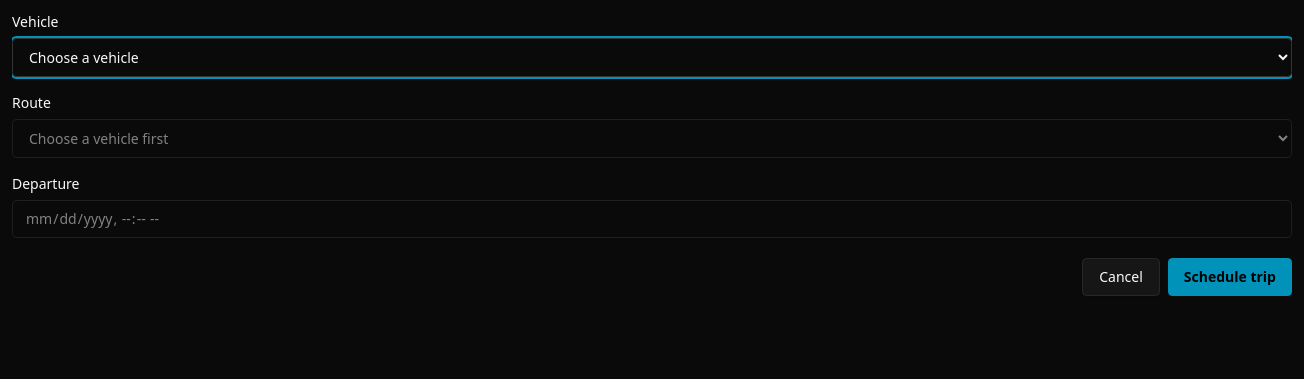
Scenario: CreateTripForm › offers only routes leaving the depot where the vehicle will be, and a default start
Expected: the dropdown labelled "Route" is disabled, [12, 119, 1292, 158]
Select "VAN-18 — LAX Cargo from 04:28 PM" in the dropdown labelled "Vehicle" at (652, 58), box [12, 38, 1292, 77]
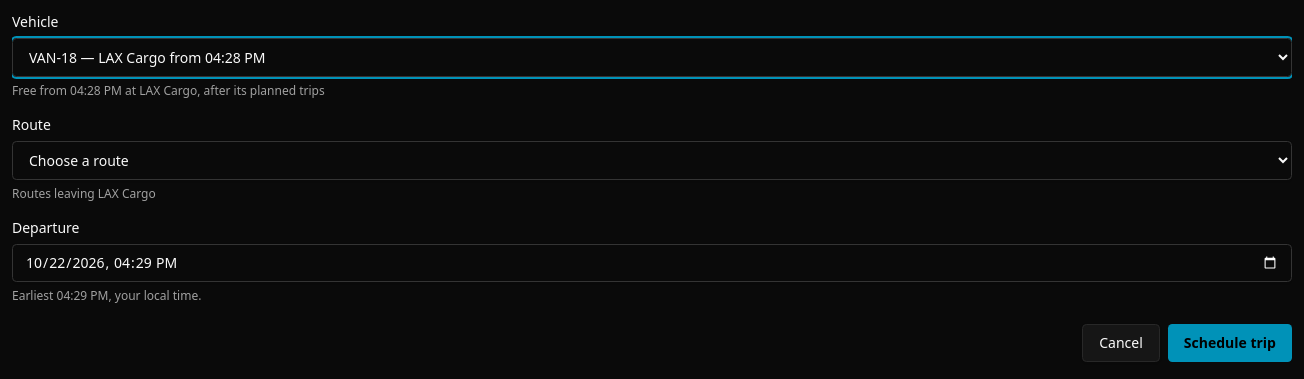
Now the field labelled "Departure" holds "2026-10-22T16:29", box [12, 244, 1292, 282]
